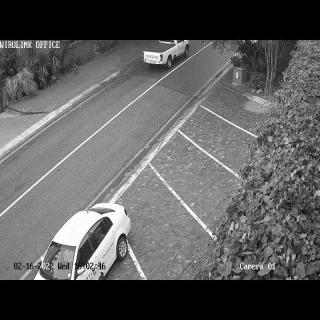car: (34, 202, 132, 279), (143, 40, 190, 67)
